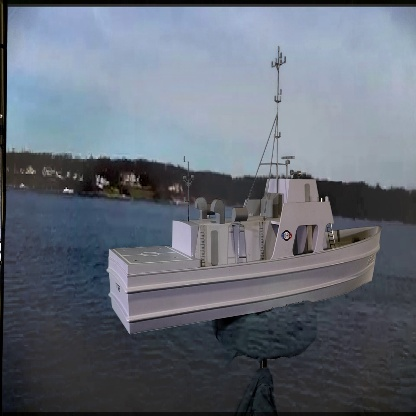YP689: (106, 45, 383, 336)
